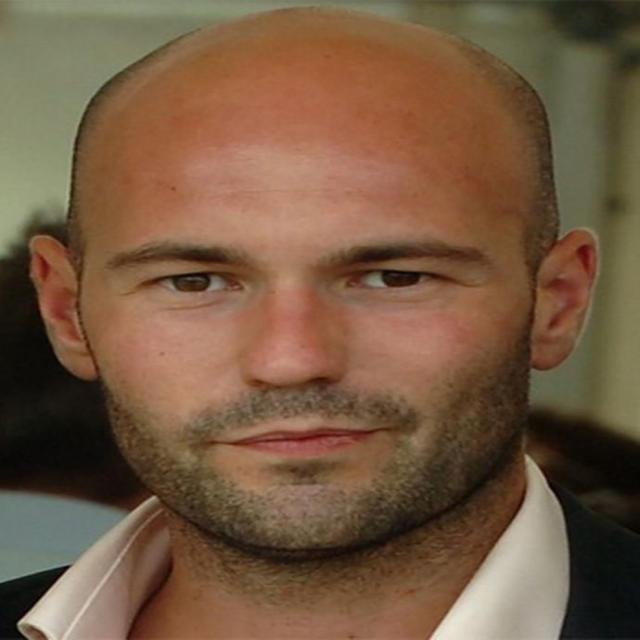no_helmet: (40, 6, 598, 244)
